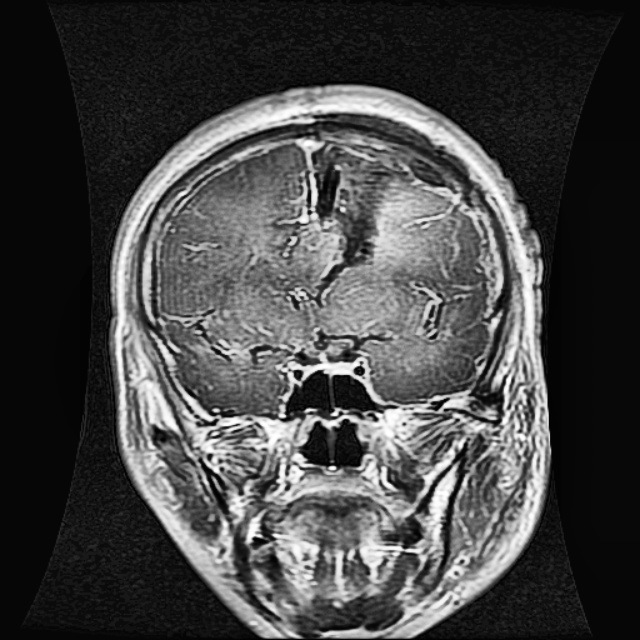Glioma: (307, 142, 402, 307)
